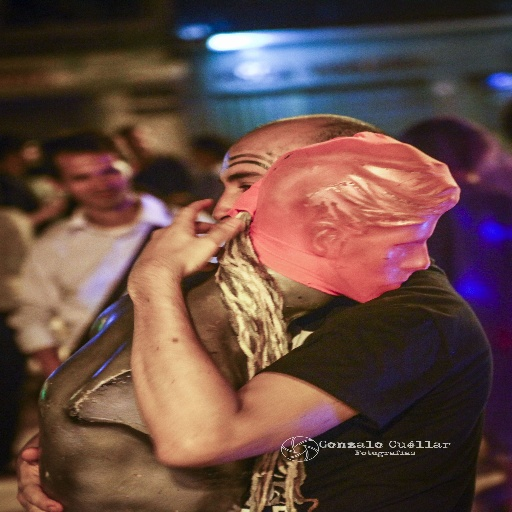hand: (131, 205, 233, 303), (10, 432, 63, 511), (42, 358, 66, 380)
